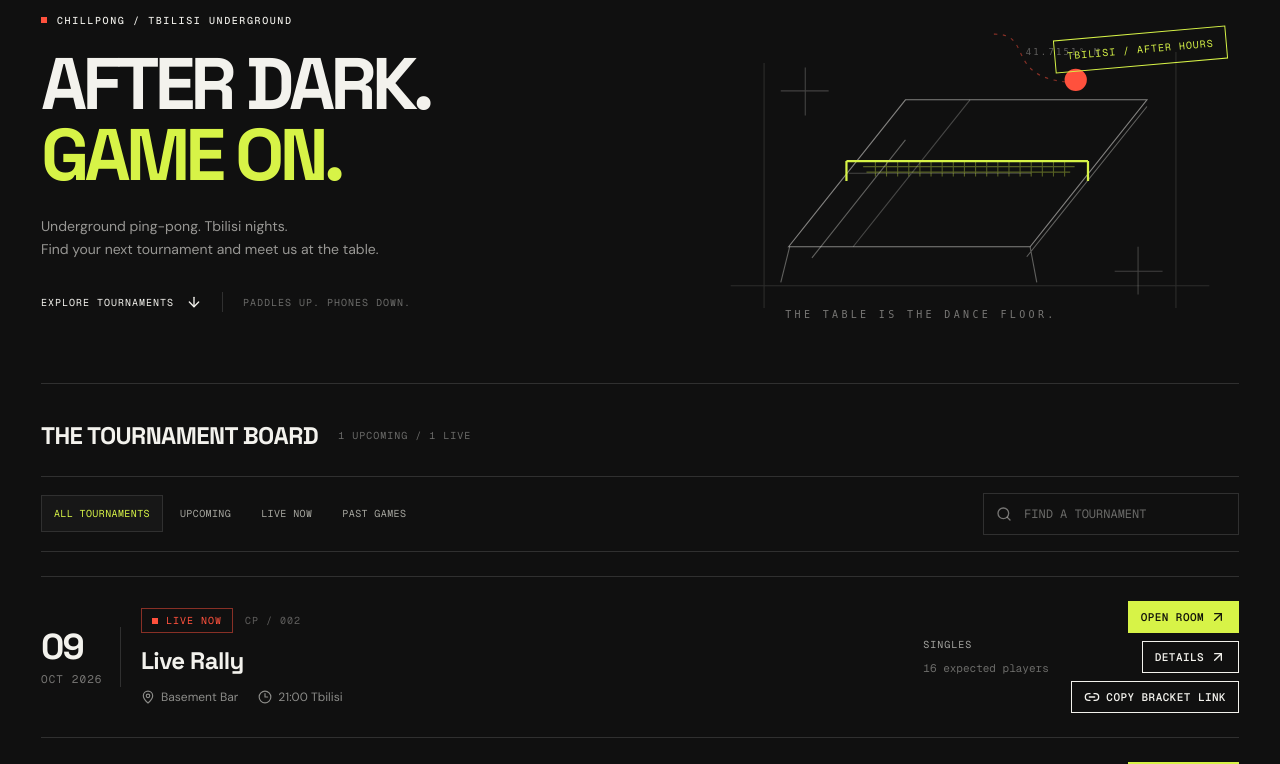
public club directory and tournament board › combines tournament status and venue search without exposing unrelated events
Click the button "Live now": (287, 514) [248, 495, 325, 532]
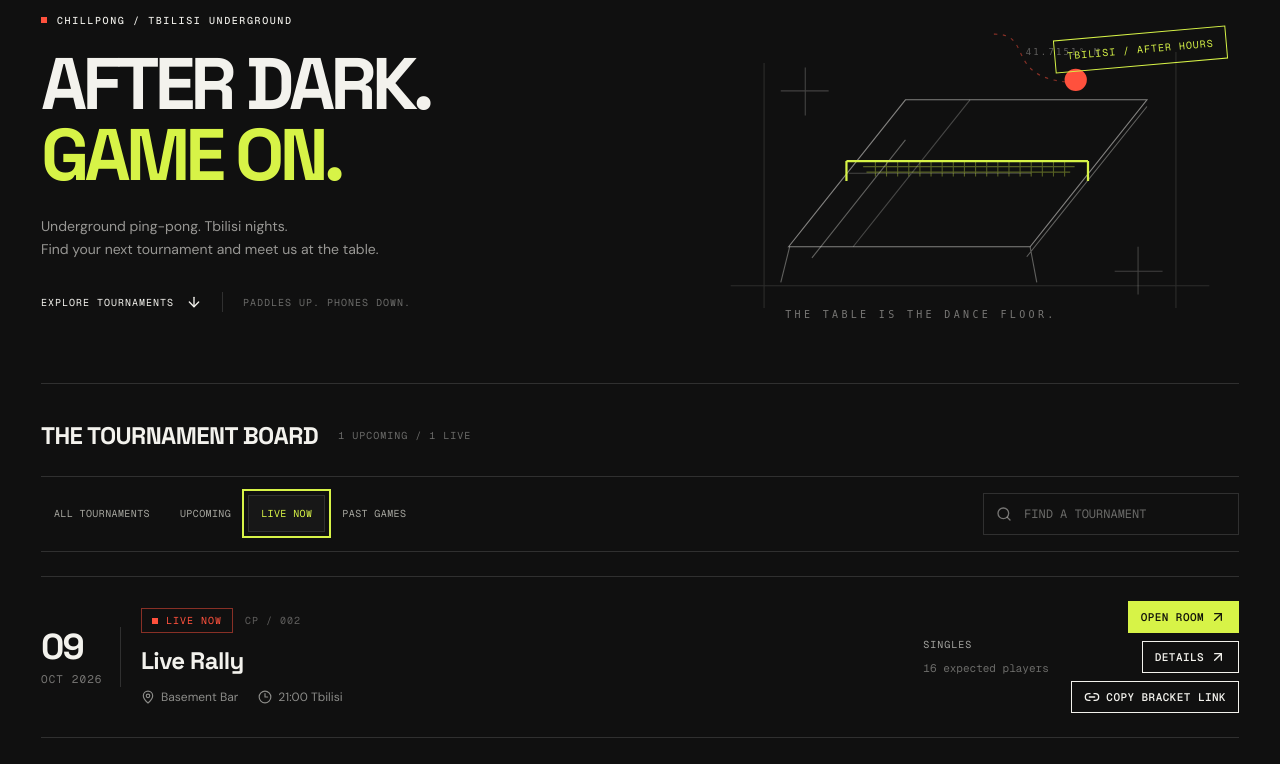
Expected: the button "Live Rally" is shown, [141, 645, 244, 677]
In the search field named "Search tournaments": (1125, 514) [1024, 494, 1226, 534], type "ChillPong"
(page scrolled)
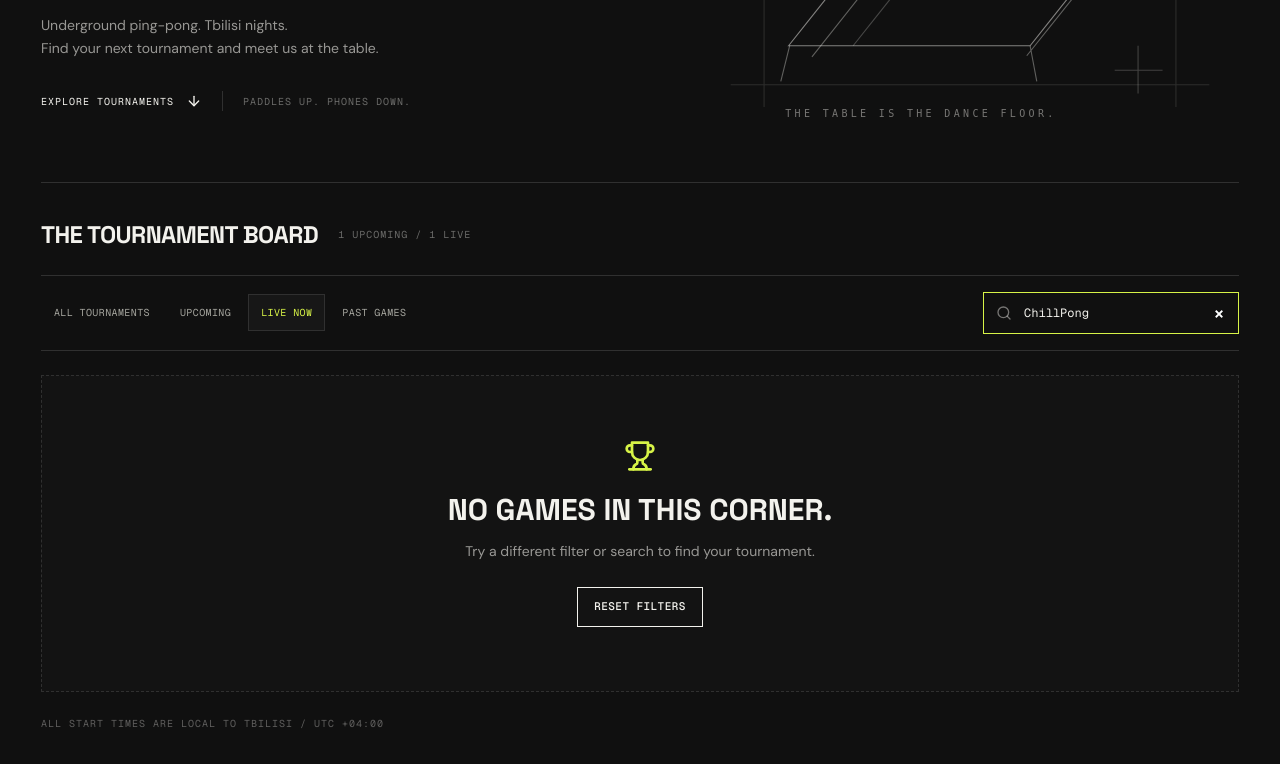
Result: the heading "No games in this corner." is shown at [448, 492, 832, 528]
Click the button "Reset filters": (640, 607) [577, 587, 703, 627]
(page scrolled)
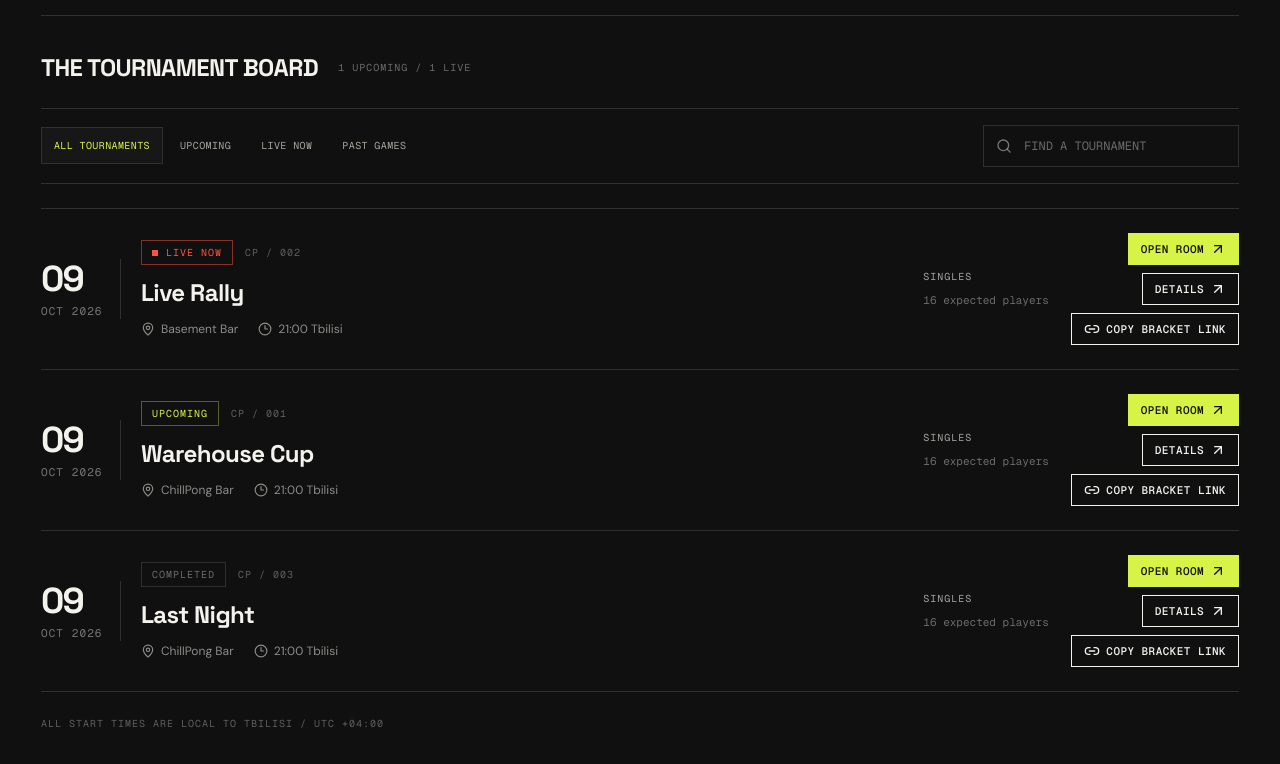
Result: the button "Warehouse Cup" is shown at [141, 438, 314, 470]
Result: the button "Last Night" is shown at [141, 599, 254, 631]
